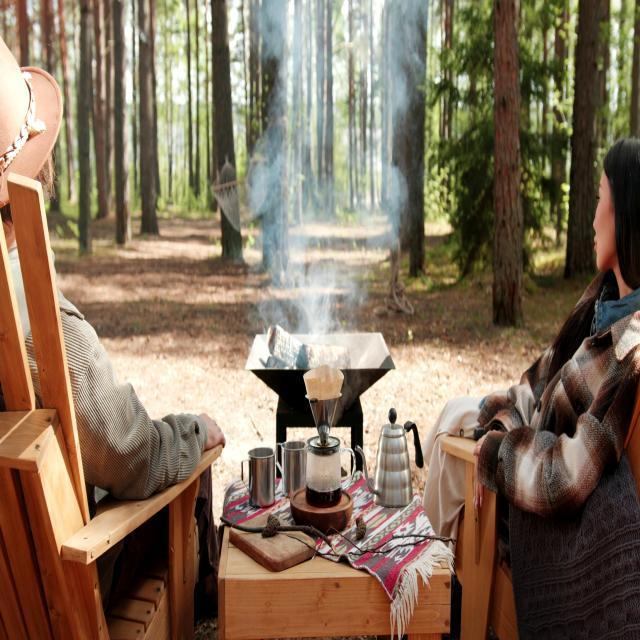Smoke: (226, 1, 431, 368)
